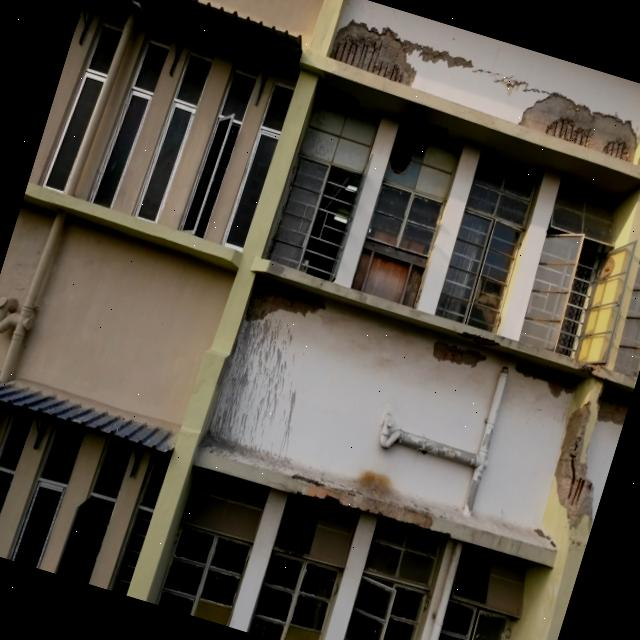Corrosion stain: (358, 470, 391, 493)
Incomplete Plaster Work: (245, 282, 325, 321), (597, 396, 629, 425)
Scaling: (516, 365, 574, 396), (433, 341, 485, 367)
Spalling: (330, 20, 416, 85), (554, 402, 594, 527), (545, 117, 590, 146), (603, 140, 628, 159)
